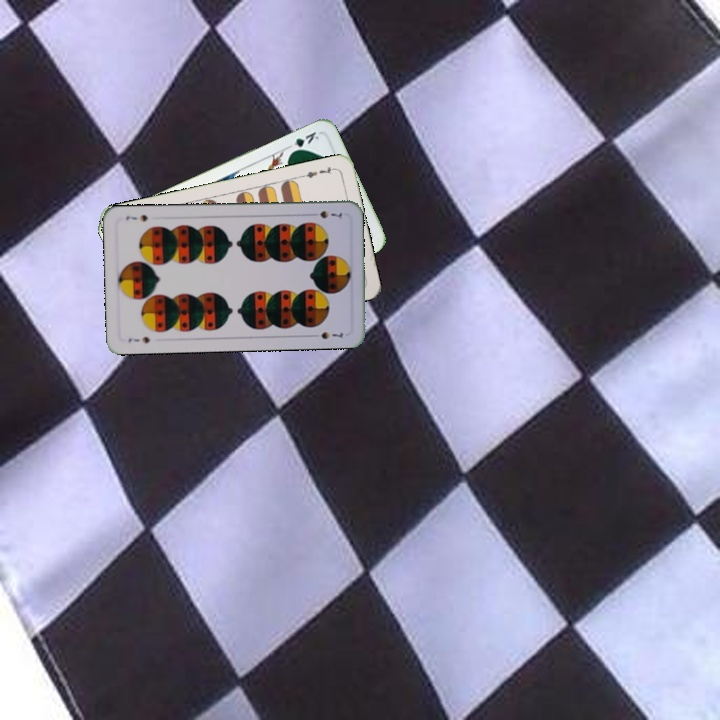E7: (298, 162, 338, 181)
GK: (283, 127, 321, 156)
S7: (306, 207, 345, 221), (124, 332, 152, 346)
